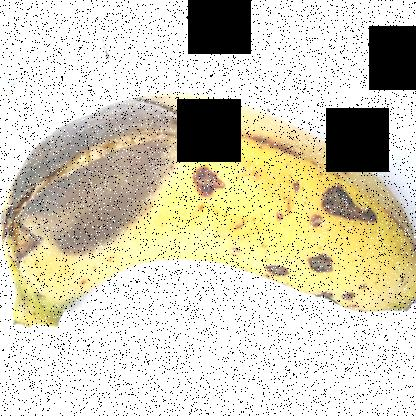rotten: (0, 77, 185, 271), (304, 179, 383, 233), (180, 159, 232, 216), (306, 286, 362, 330), (294, 238, 344, 283), (188, 117, 238, 159), (248, 249, 292, 296)
